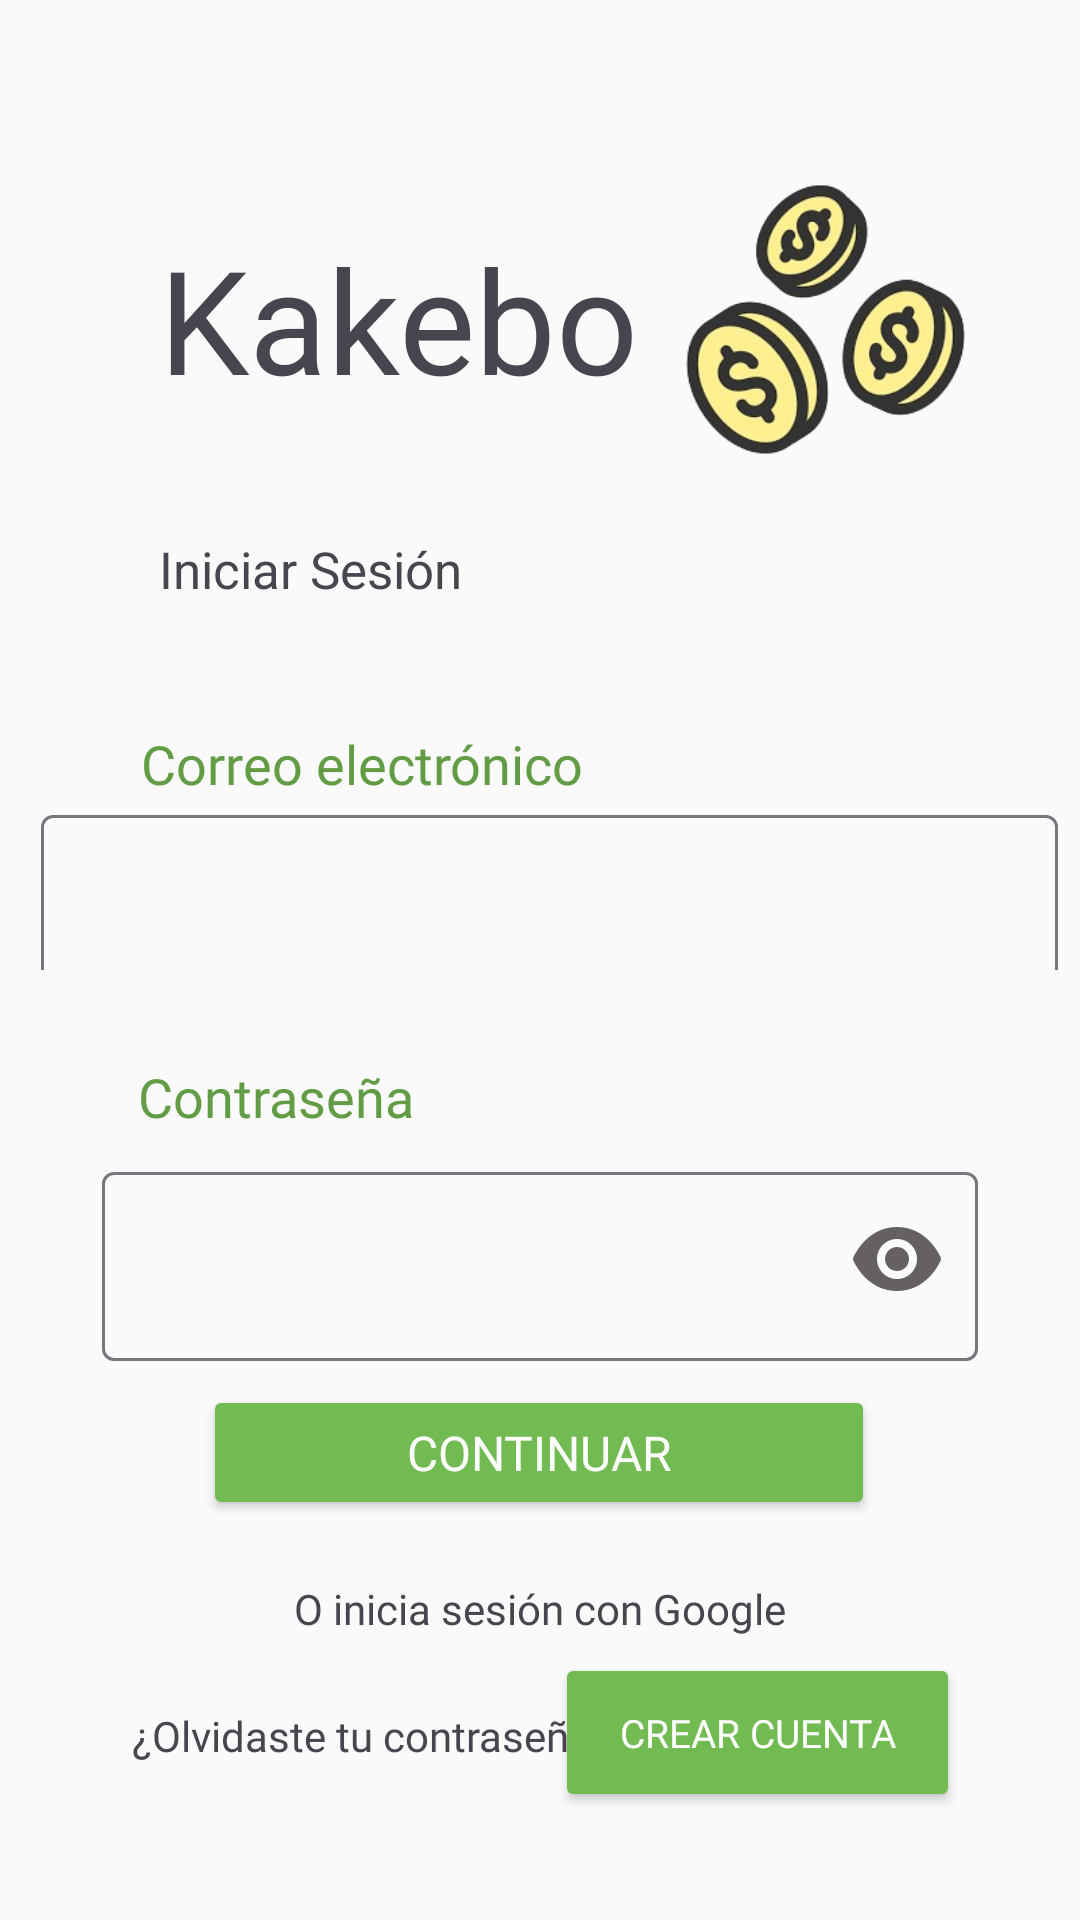

Icons on this 1080px x 1920px Android screen, each with the point to tap as (x,y):
view password in log in: (897,1259)
